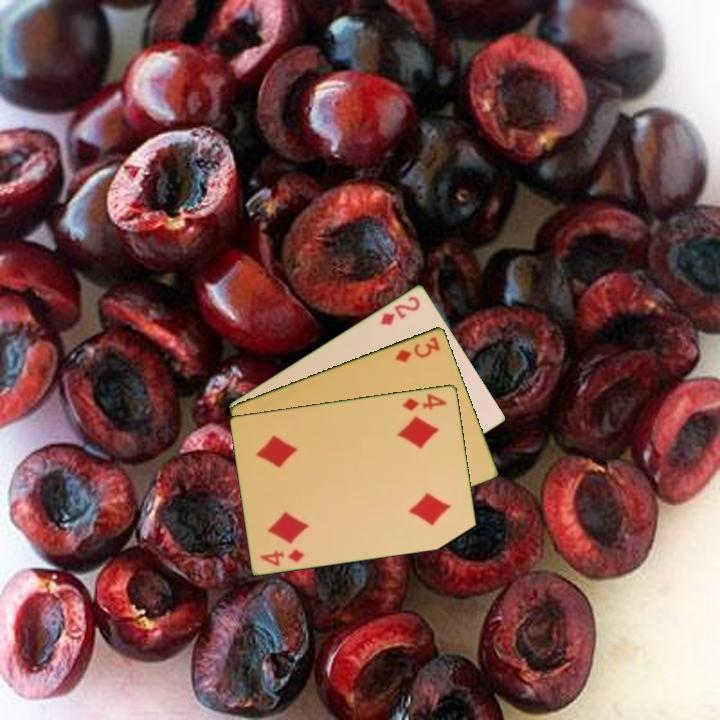2d: (377, 292, 423, 328)
3d: (392, 333, 443, 365)
4d: (399, 390, 450, 413), (257, 545, 308, 568)
